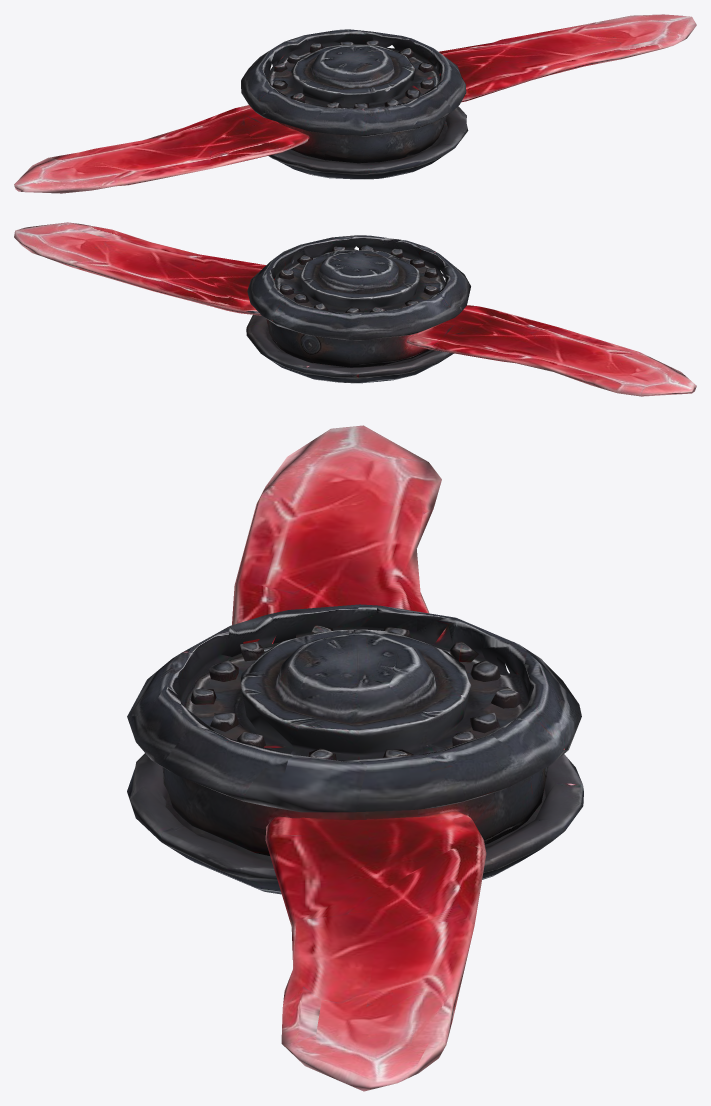
File: rotor.glb
3 renders of one model, top to bottom at view 1: azimuth 30°, elevation 25°; view 2: azimuth 150°, elevation 25°; view 3: azimuth 270°, elevation 25°, orthographic. The views are drawn at different scales.
Bounding box in the file's own units: 1 × 0.1351 × 0.2946.
Materials: 1 (1 with a texture image).
